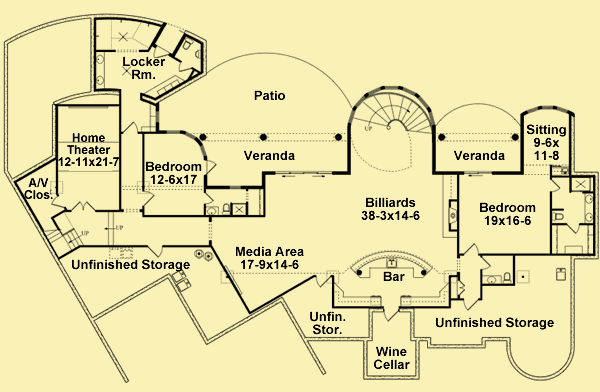door: (462, 298, 482, 314), (546, 176, 562, 195), (141, 189, 156, 208), (144, 243, 163, 258), (70, 201, 95, 212), (151, 45, 171, 58), (51, 195, 68, 210), (478, 255, 493, 271), (122, 120, 139, 134), (204, 158, 218, 175), (313, 275, 332, 287), (382, 310, 399, 322), (464, 241, 478, 255), (202, 192, 216, 205), (176, 60, 192, 71), (458, 279, 465, 297)
large_sink: (551, 209, 565, 224), (181, 36, 195, 50), (220, 202, 231, 214)
small_sink: (94, 50, 107, 90), (583, 192, 597, 225)
stairs: (348, 84, 433, 138), (40, 216, 90, 255)
windows: (524, 102, 570, 116), (462, 170, 494, 179)
